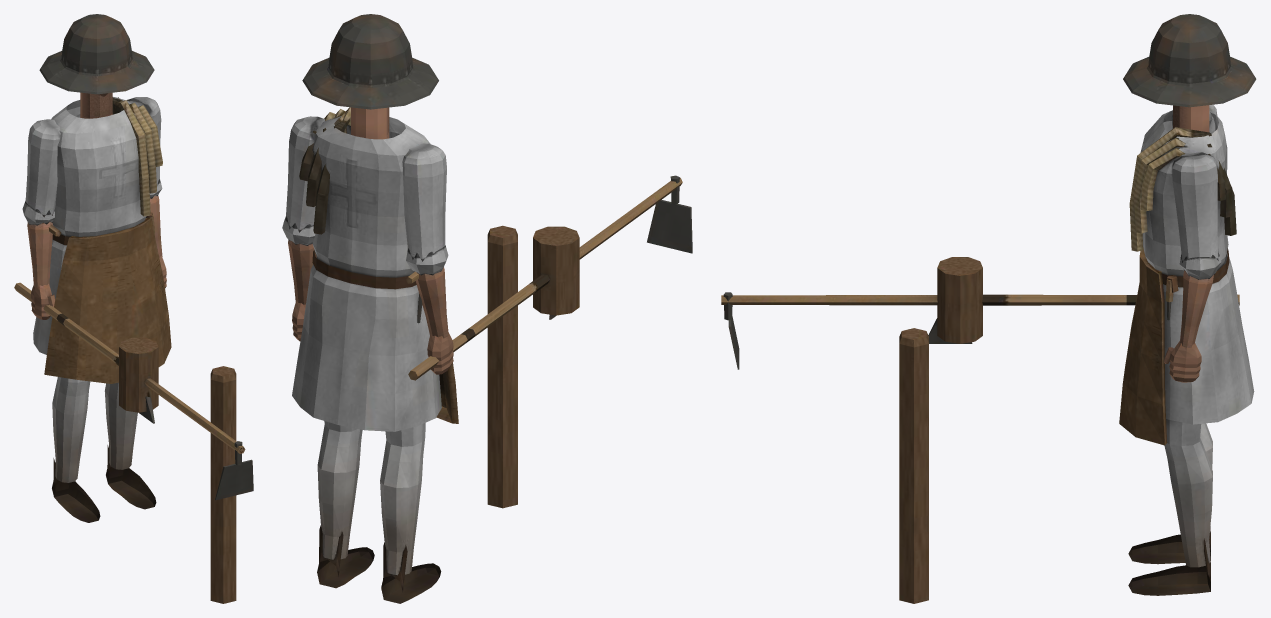
Rendered from siegecrew.glb.
3 renders of one model, left to right at view 1: azimuth 30°, elevation 25°; view 2: azimuth 150°, elevation 25°; view 3: azimuth 270°, elevation 25°, orthographic. The views are drawn at different scales.
Visible parts, largest first — view 1: siegecrew_LOD0; view 2: siegecrew_LOD0; view 3: siegecrew_LOD0.
Boxes of the visible parts, x1=… form: siegecrew_LOD0: x1=14, y1=14, x2=253, y2=603; siegecrew_LOD0: x1=282, y1=14, x2=692, y2=603; siegecrew_LOD0: x1=721, y1=14, x2=1256, y2=603.
Size of what is drawn, in the model's own units: 0.568 by 1.86 by 1.57.
1 material, 1 textured.
